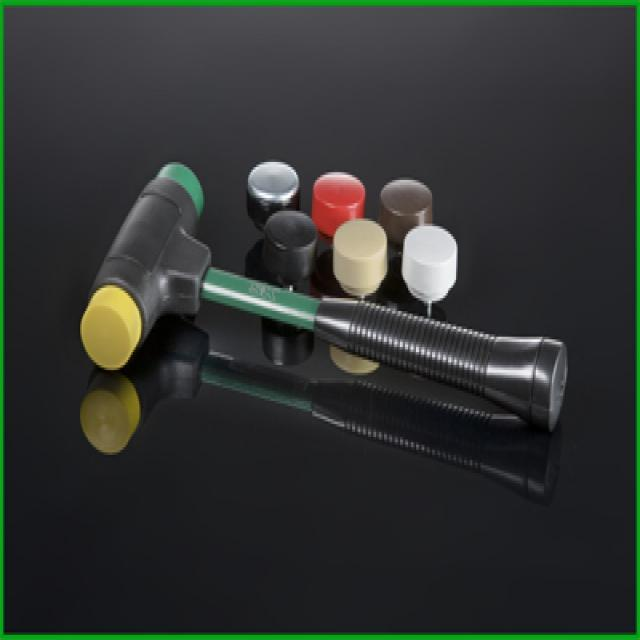hammer: (79, 148, 566, 472)
